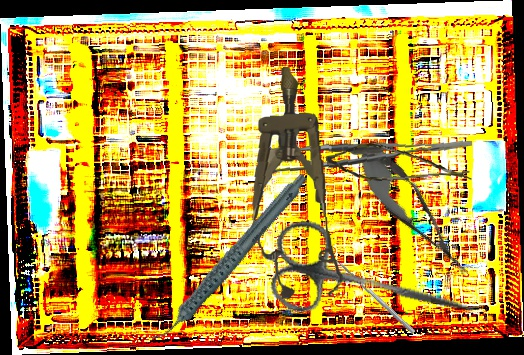Handpiece: (123, 171, 334, 344)
Iris Scissors: (262, 214, 485, 352)
Micro Scissor: (341, 131, 483, 289), (325, 134, 472, 193)
Spatula Surgical: (327, 254, 416, 338)
Speculum: (240, 64, 348, 301)
Tissue Forceps: (261, 130, 473, 183)
